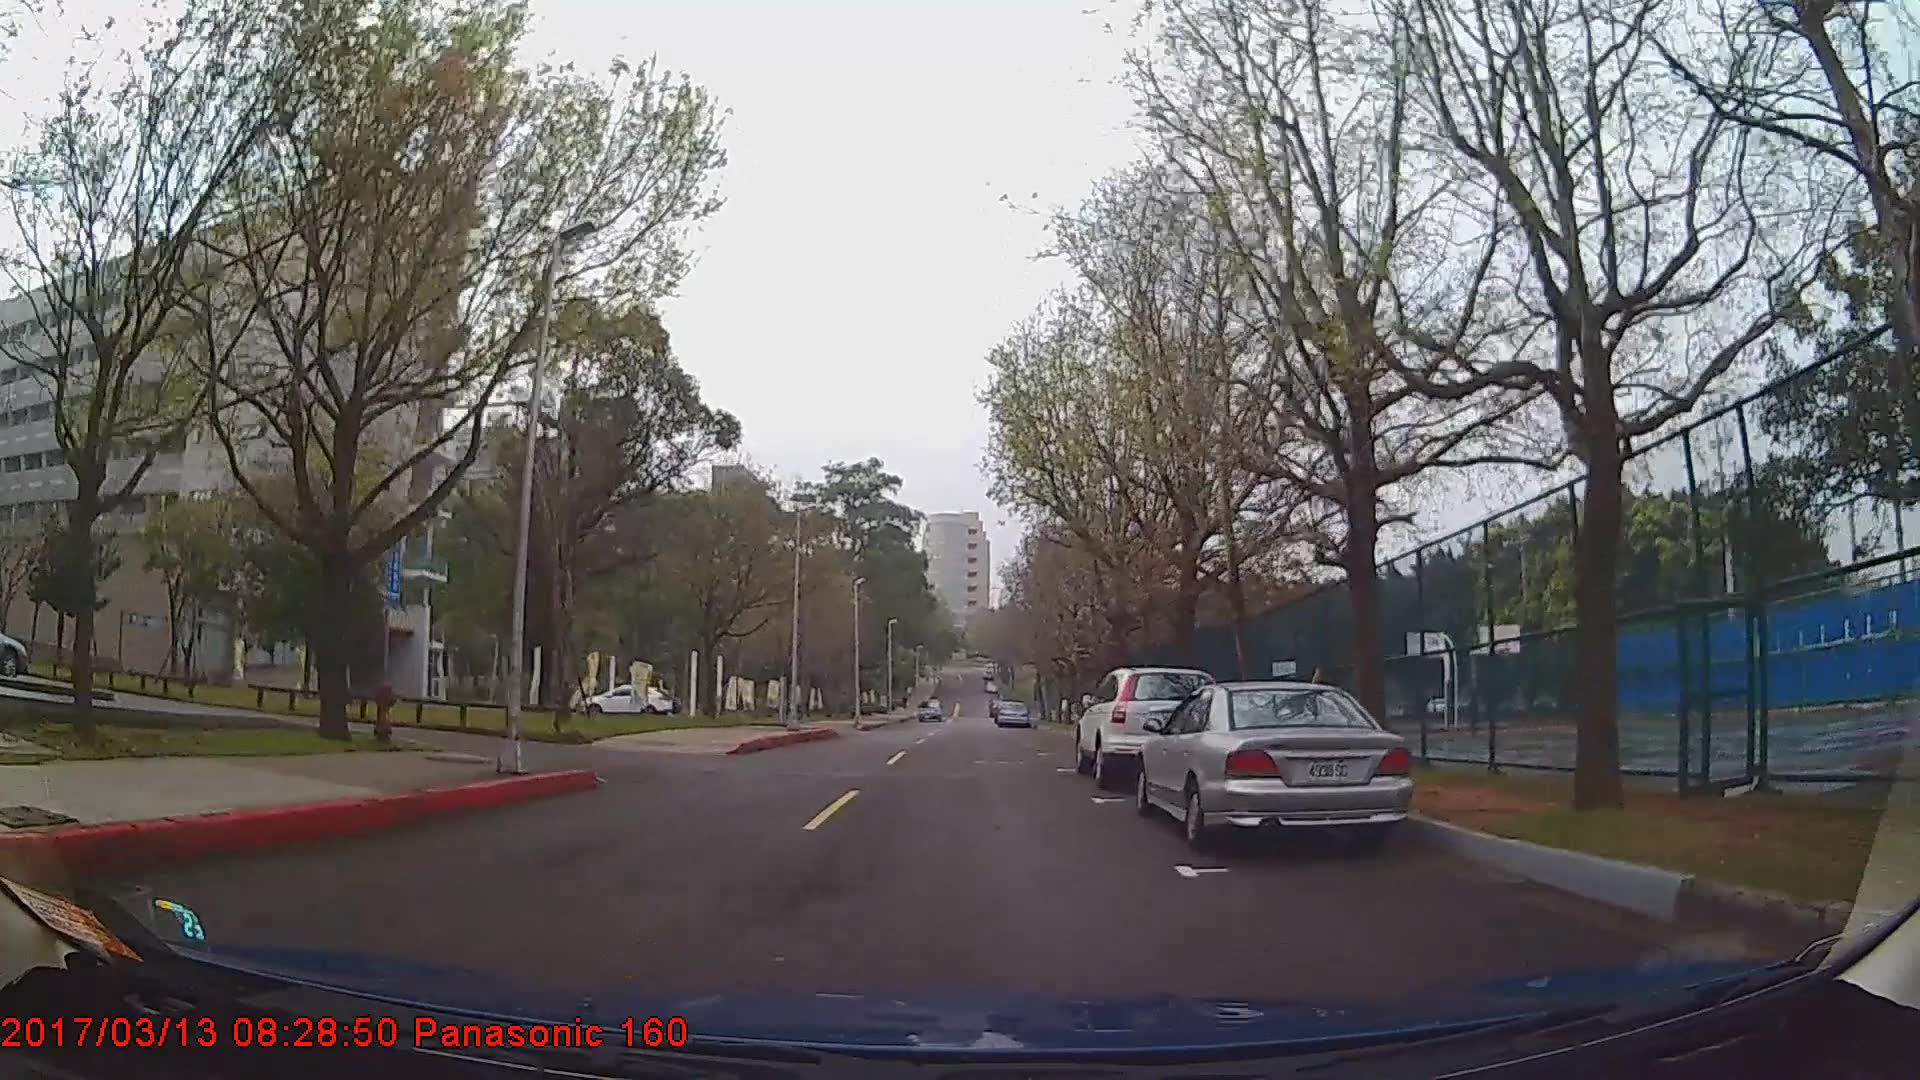vehicle: (1135, 680, 1410, 852), (1073, 667, 1220, 789), (578, 683, 675, 717), (993, 700, 1030, 728)
